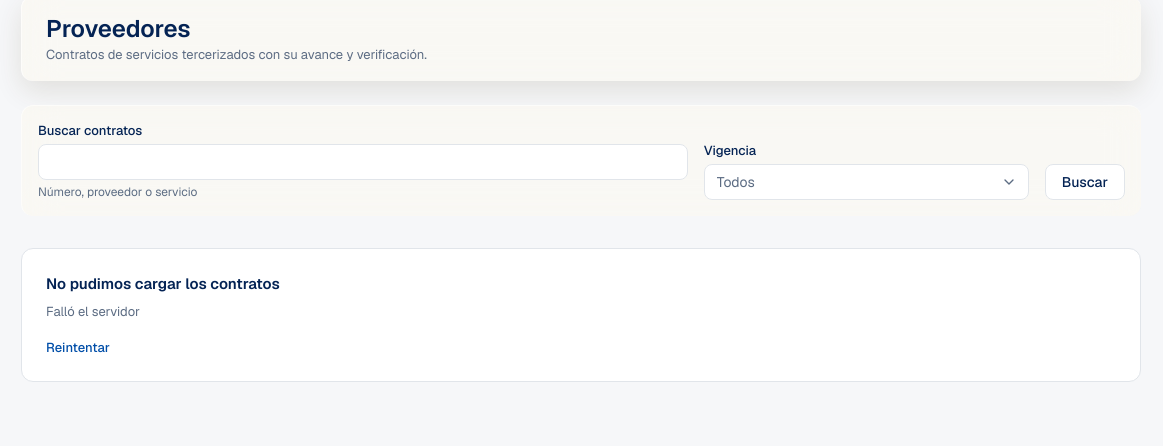
Test: Proveedores · contratos (RD-49) › muestra el estado vacío, el error con reintento y el 403
Later steps or results of the test are not shown.
Expected: the heading "No pudimos cargar los contratos" is shown, [46,273,280,295]
Click the button "Reintentar": (78, 348) [46,339,110,357]
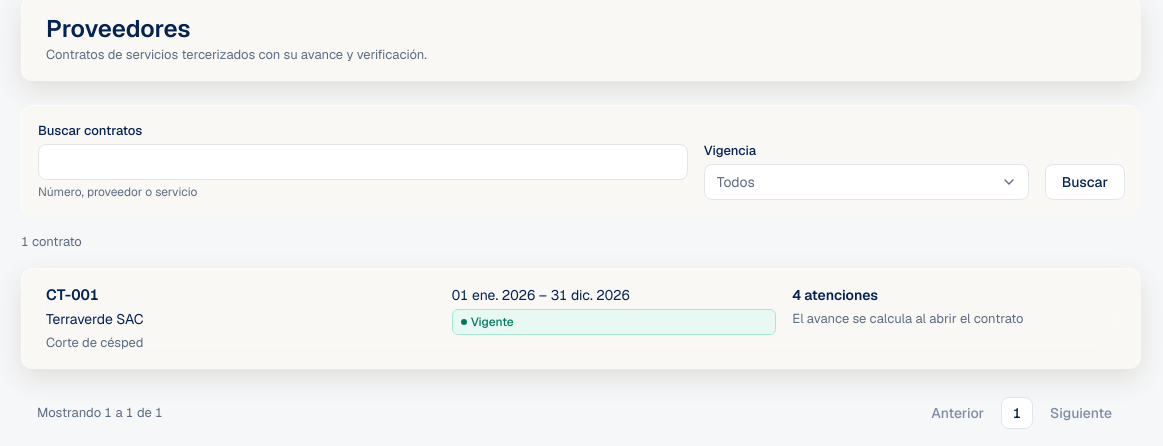
Now the link "CT-001" is shown, box [22,269,1141,369]
